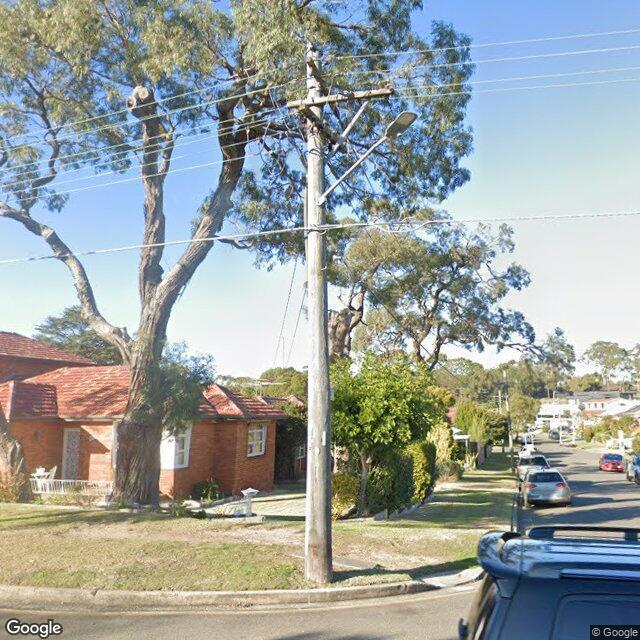crossarm: (296, 104, 348, 155), (286, 85, 394, 109), (307, 57, 341, 119)
streetlight: (318, 110, 419, 206)
timber-pole: (305, 35, 333, 585)
